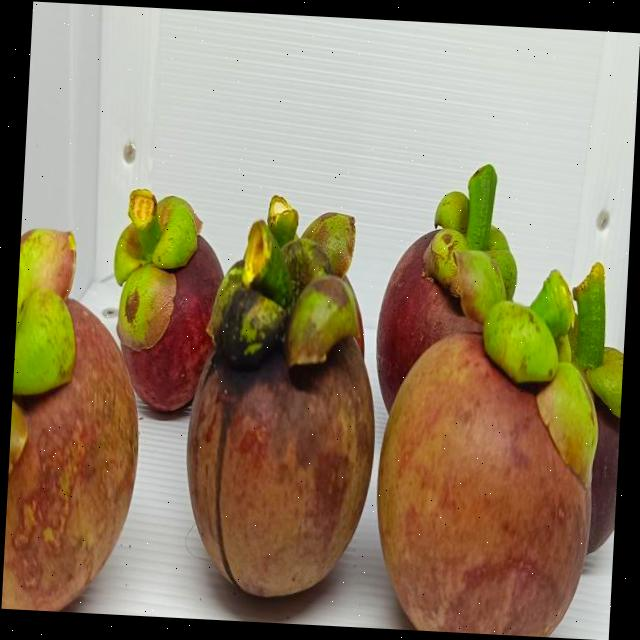mangosteen: (154, 248, 396, 628), (362, 296, 590, 638), (0, 215, 168, 616), (356, 146, 538, 450), (487, 253, 628, 596), (74, 134, 230, 394)
